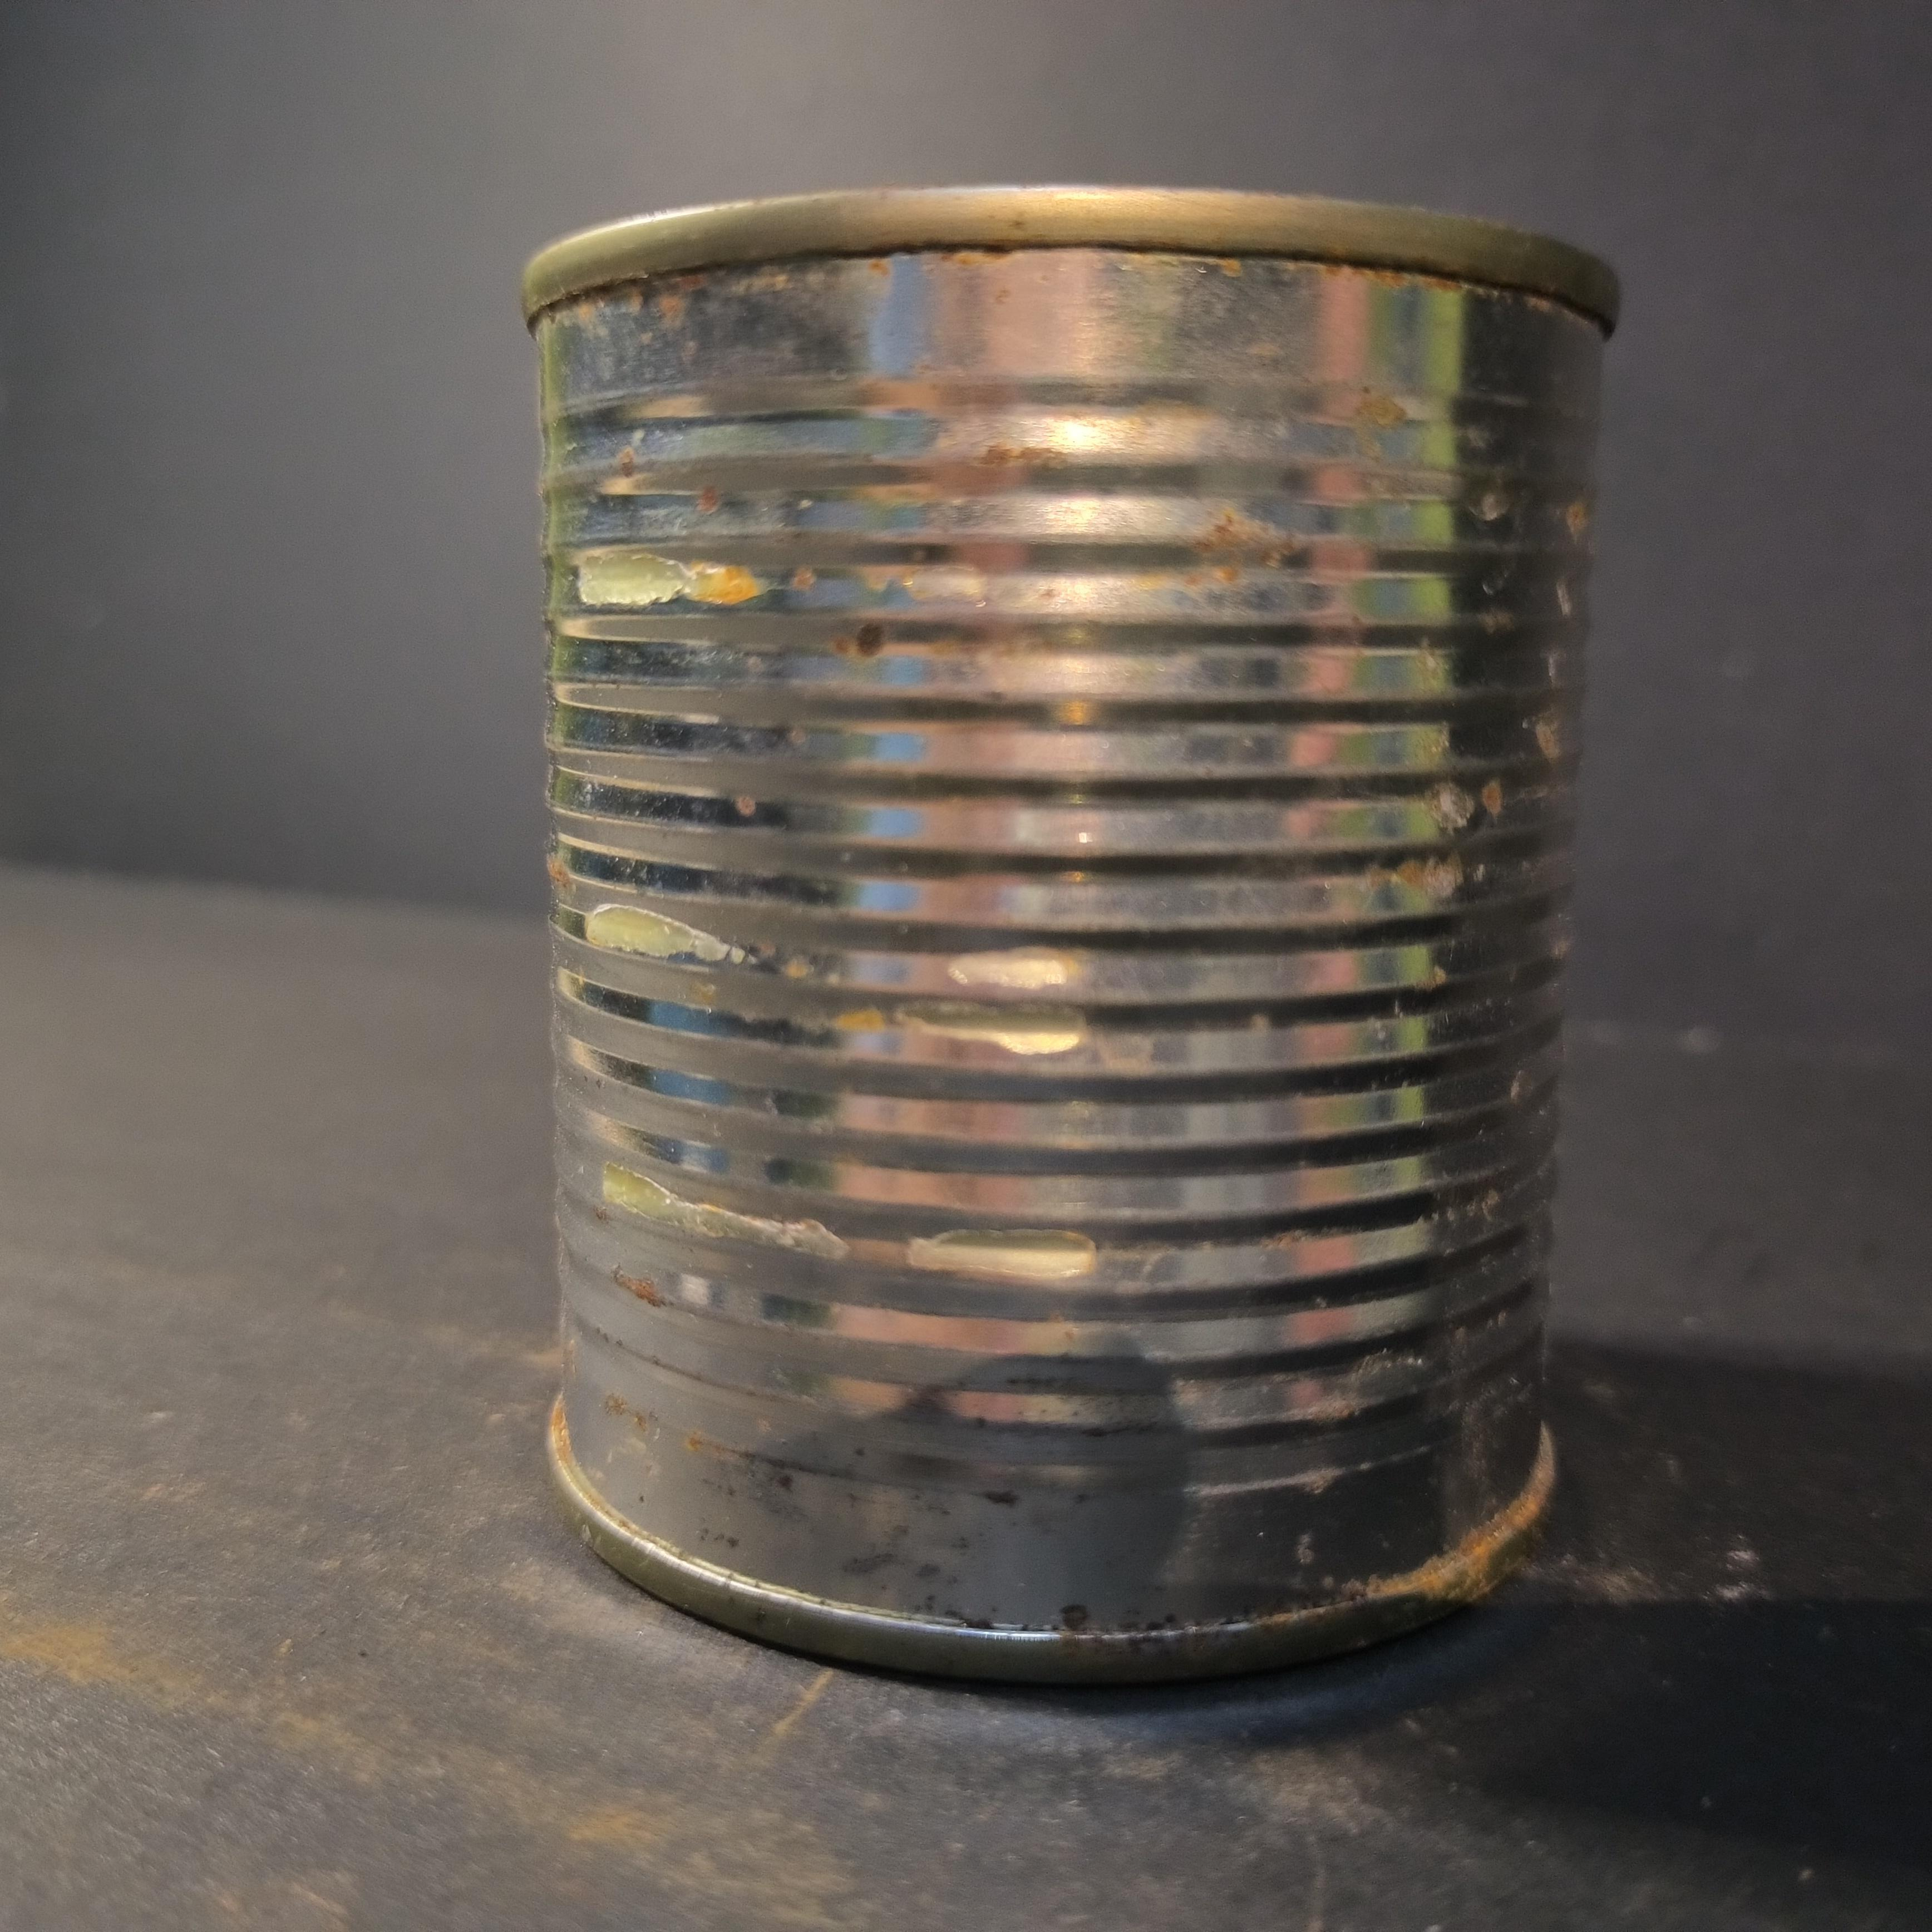Rusted: (501, 140, 1603, 1670)
